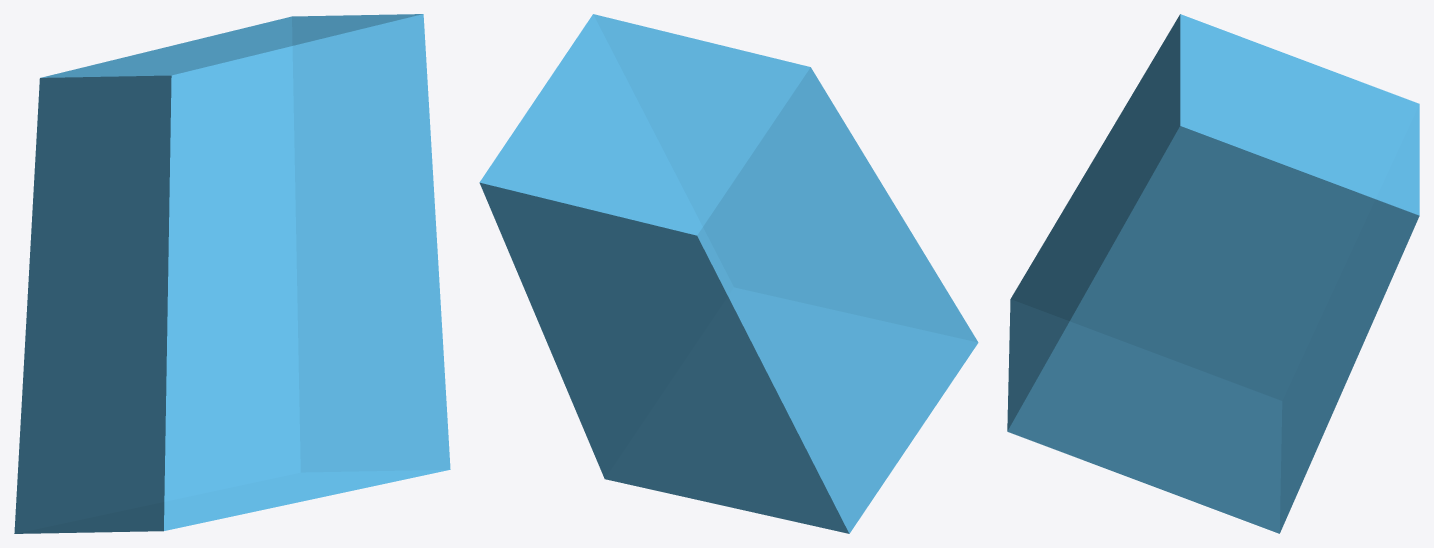
File: Event_421115418_HBrechit_6.fbx
3 renders of one model, left to right at view 1: azimuth 30°, elevation 25°; view 2: azimuth 150°, elevation 25°; view 3: azimuth 270°, elevation 25°, orthographic. The views are drawn at different scales.
Visible parts, largest first — view 1: Model; view 2: Model; view 3: Model.
Part boxes in pixels (<box>): Model: <box>14,14,450,533</box>; Model: <box>479,14,978,533</box>; Model: <box>1007,14,1419,533</box>.
Size of the model in its own units: 0.5745 by 0.7495 by 0.6391.
